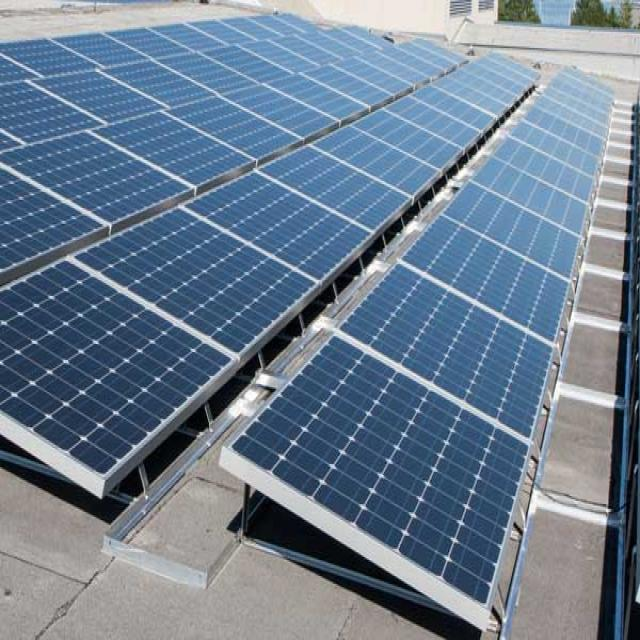clean-solar-panel: (0, 15, 536, 497), (221, 71, 610, 630)
